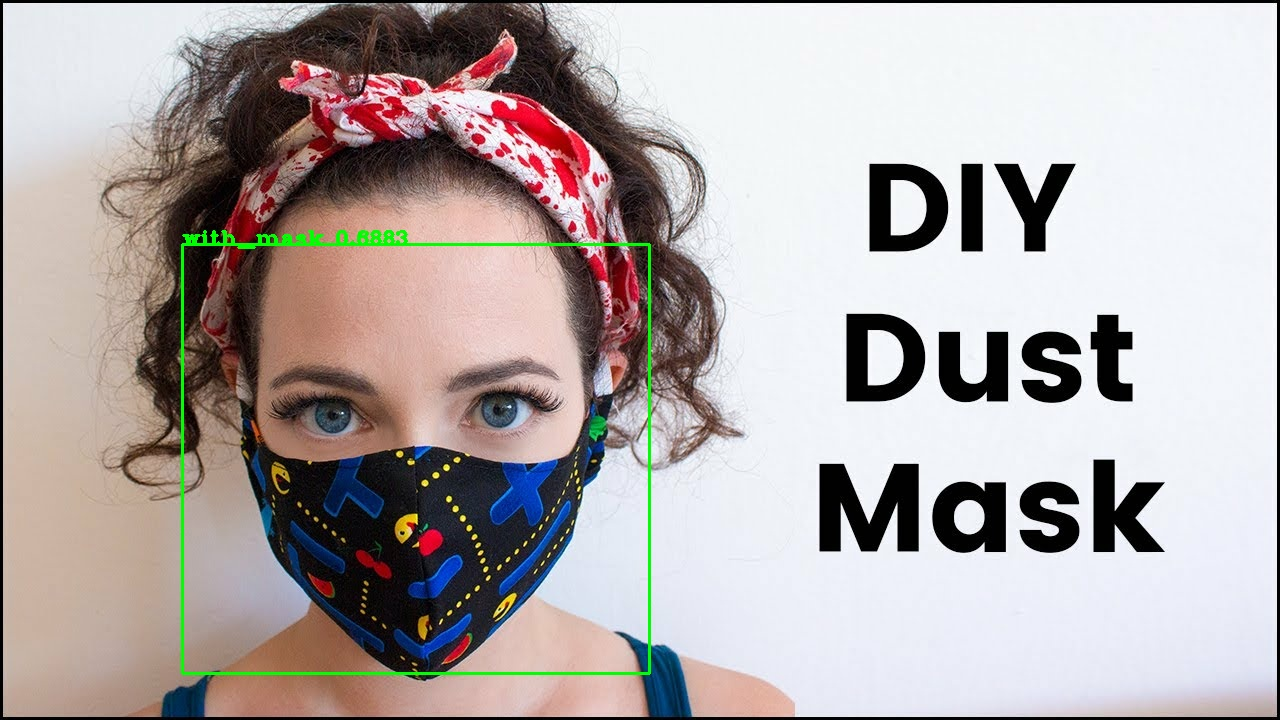with_mask: (196, 141, 661, 680)
